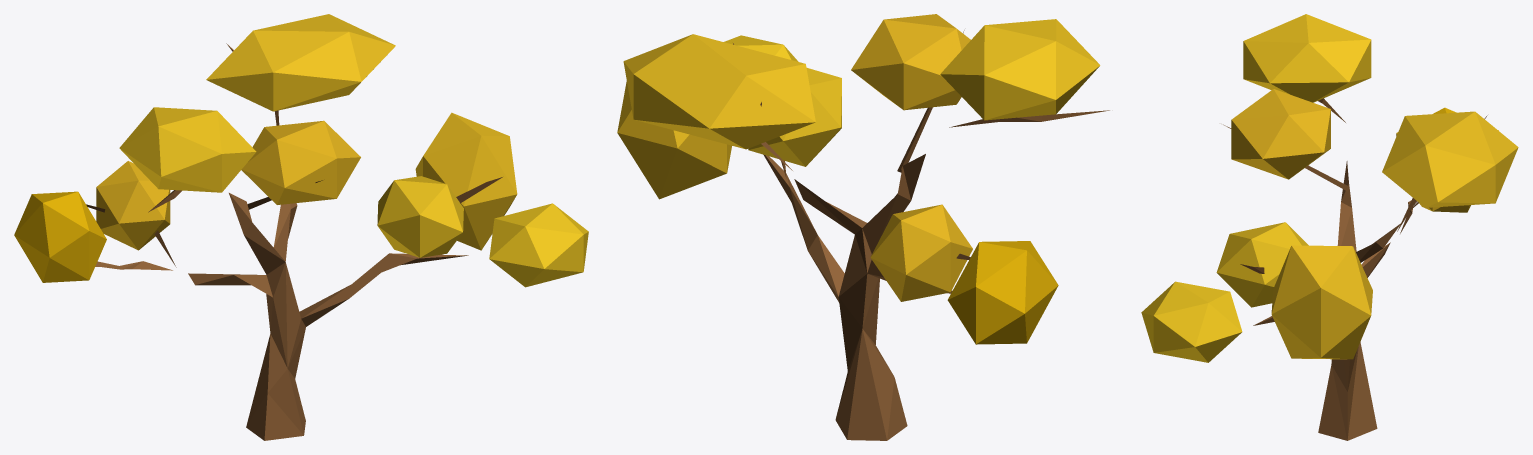
File: guayacan_3_bloom_far.glb
The picture shows the model from 3 angles, left to right: view 1: azimuth 30°, elevation 25°; view 2: azimuth 150°, elevation 25°; view 3: azimuth 270°, elevation 25°; orthographic projection. The views are drawn at different scales.
Visible parts, largest first — view 1: guayacan_3_bloom_far; view 2: guayacan_3_bloom_far; view 3: guayacan_3_bloom_far.
Boxes of the visible parts, left/top/right/bottom form: guayacan_3_bloom_far: left=14, top=14, right=588, bottom=440; guayacan_3_bloom_far: left=617, top=14, right=1109, bottom=440; guayacan_3_bloom_far: left=1141, top=14, right=1518, bottom=440.
Bounding box in the file's own units: 8 × 6.19 × 6.12.
